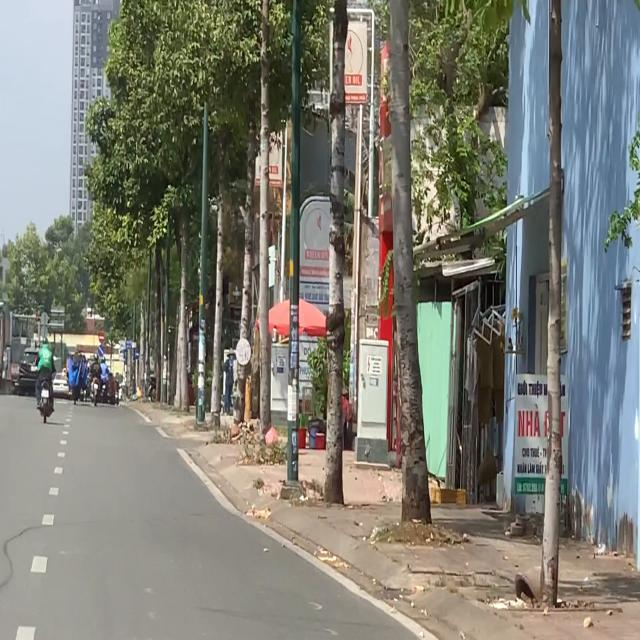Cam nguoc chieu: (98, 332, 105, 344)
Hieu lenh: (98, 344, 104, 357)
